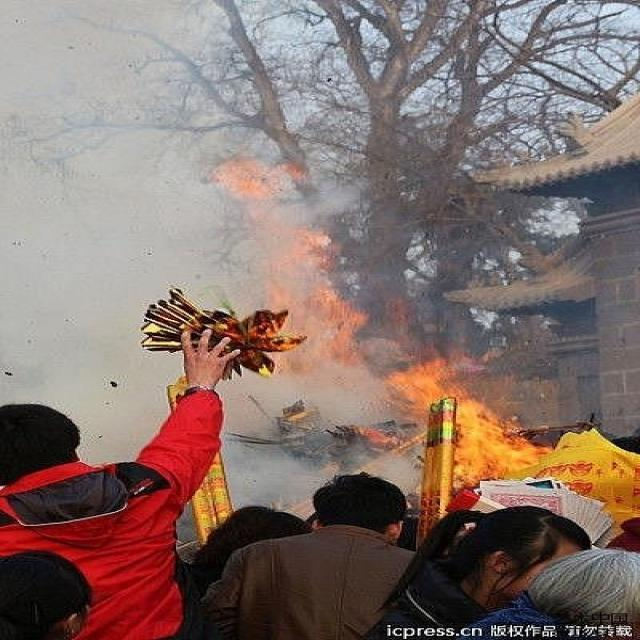Fire: (203, 152, 364, 370), (386, 353, 552, 488)
Smoke: (2, 1, 427, 520)
